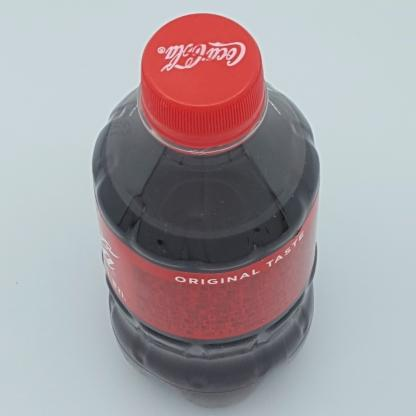--------300ML: (92, 13, 321, 408)
